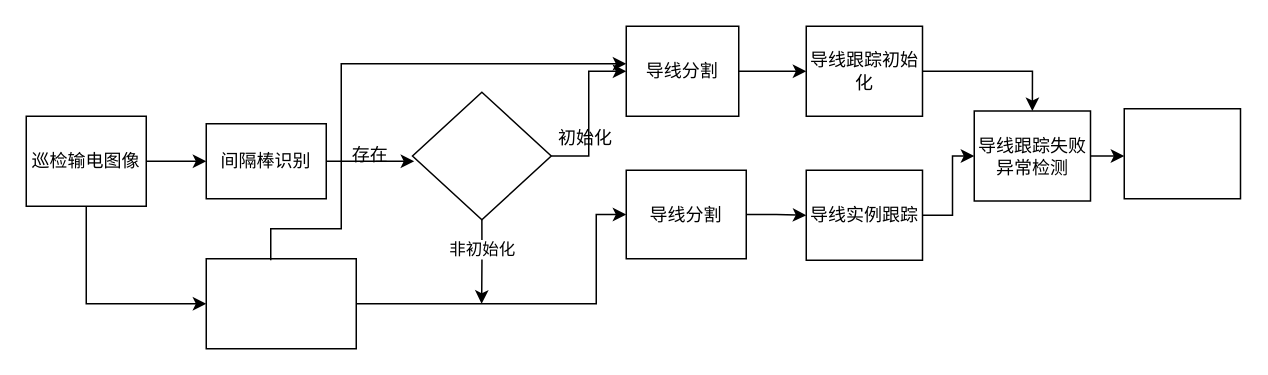
Image size: 1268x375. Some labels were removed from this diagram. Each missing label, with the centre of its shape:
区段跟踪初始化?: the point at 481,155
结果: the point at 1181,153
视觉模型导线检测: the point at 280,303
